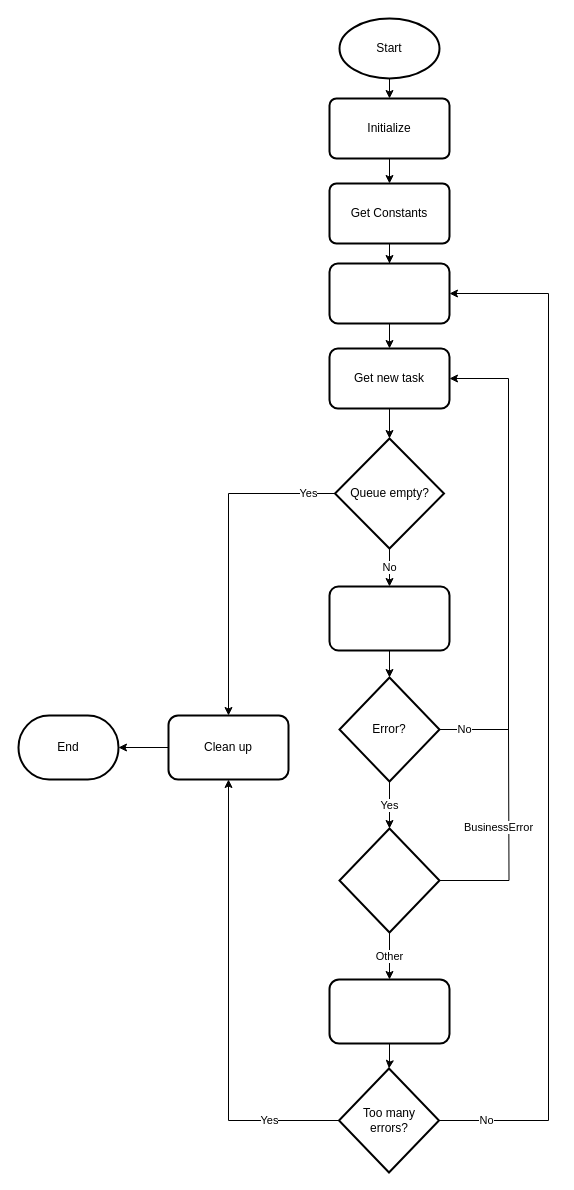
Image size: 574x1190. Some labels were removed from this diagram. Each missing label, with the centre of its shape:
"Error Type" goes at point (389, 880).
"Process" goes at point (389, 618).
"Reset" goes at point (389, 293).
"Send error screenshot" goes at point (389, 1011).
